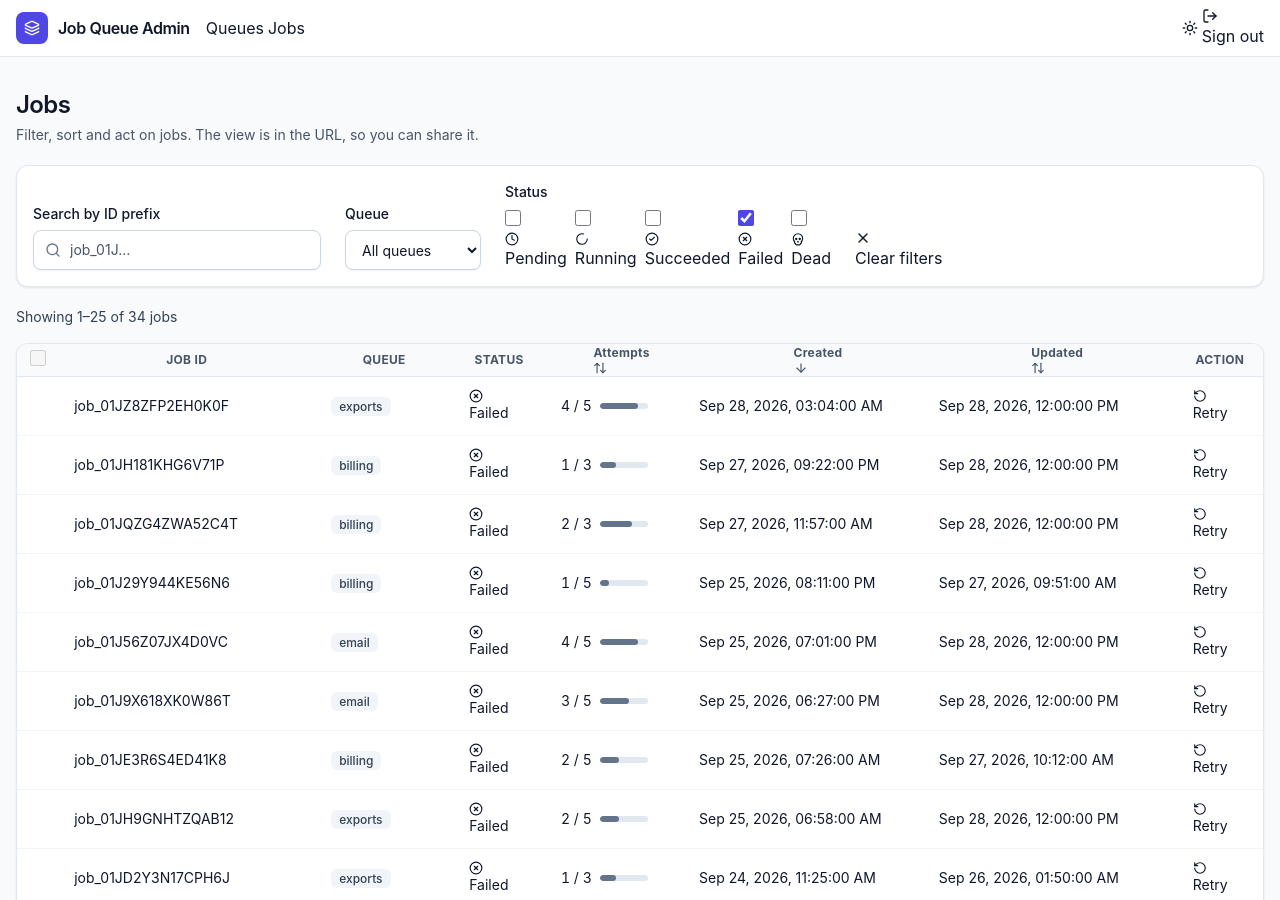
Test: row actions › tells the user how long to wait after a 429
Check: the text "Showing 1–25 of 34 jobs" is shown, box x1=16 y1=308 x2=177 y2=325
What coordinates should you click on to do the following:
click the 1st button "Retry"
I would click on:
 (1210, 406)
Its box is x1=1193 y1=389 x2=1228 y2=423.
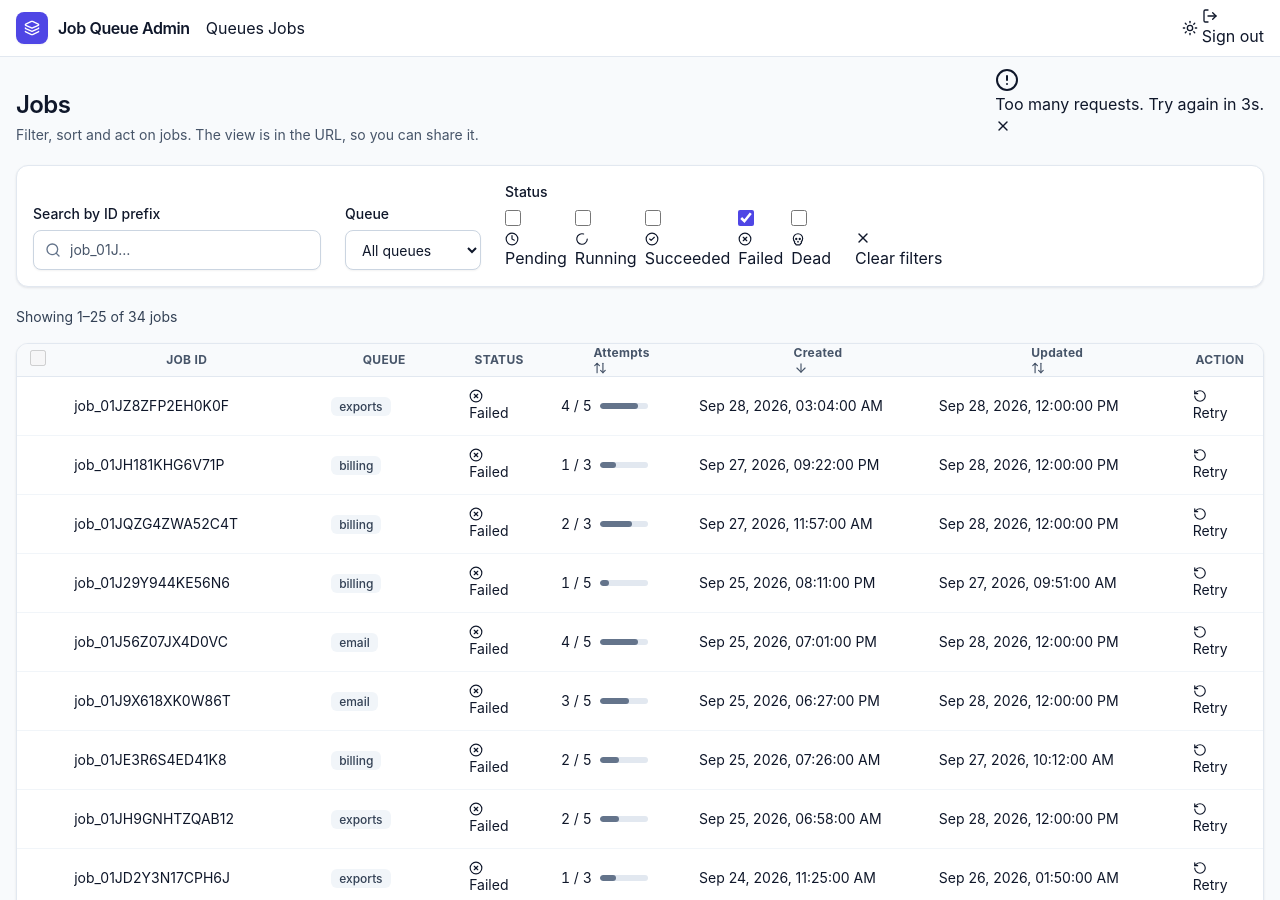
Check: the message shows "Try again in 3s", box x1=995 y1=94 x2=1264 y2=114
